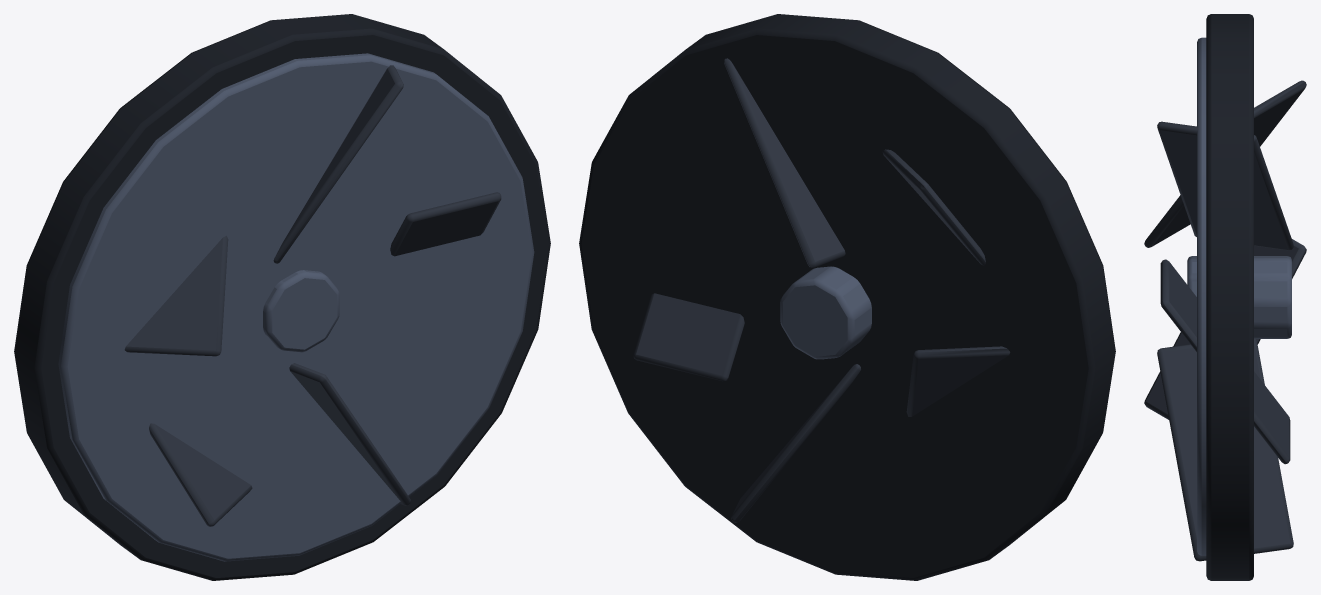
Rendered from vent_fan.glb.
3 renders of one model, left to right at view 1: azimuth 30°, elevation 25°; view 2: azimuth 150°, elevation 25°; view 3: azimuth 270°, elevation 25°, orthographic. The views are drawn at different scales.
Visible parts, largest first — view 1: vent_fan; view 2: vent_fan; view 3: vent_fan.
Boxes of the visible parts, x1,y1,x2,y2 form: vent_fan: [14, 14, 550, 580]; vent_fan: [579, 14, 1115, 580]; vent_fan: [1144, 14, 1306, 580].
Bounding box in the file's own units: 1.2 × 1.2 × 0.3415.
